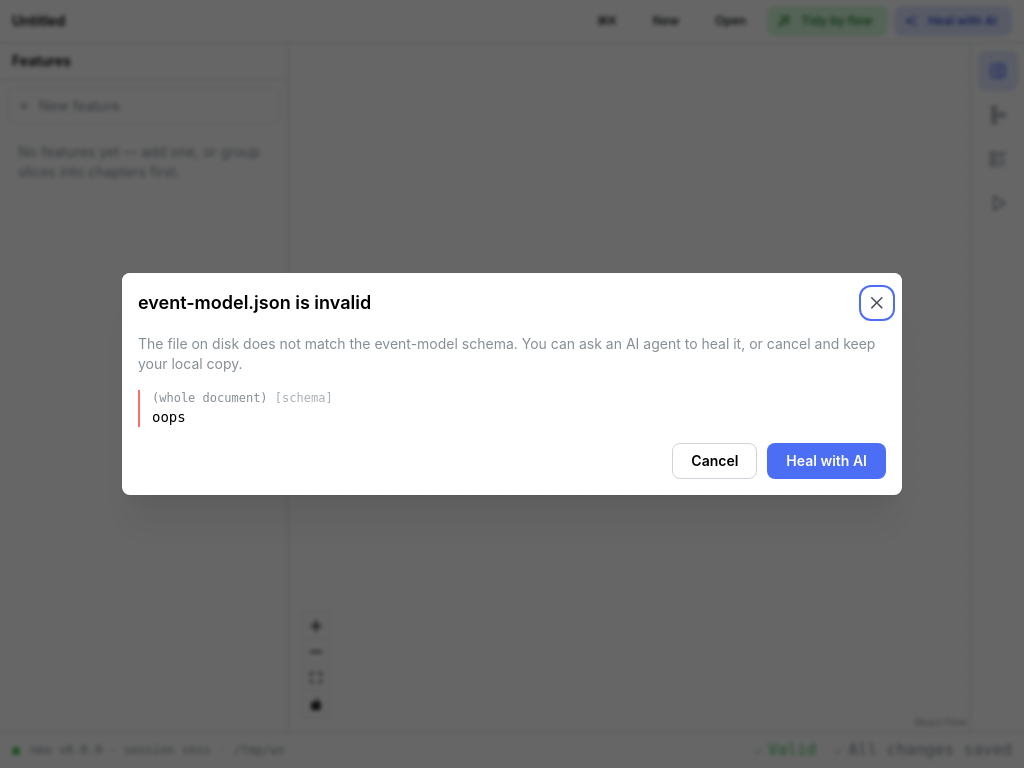
Test case: App — event-model load + heal flow › Heal happy path: heal → reload → modal closes
What coordinates should you click on to do the following:
click the button "Heal with AI"
I would click on:
 (827, 461)
Its box is [767,443,886,479].
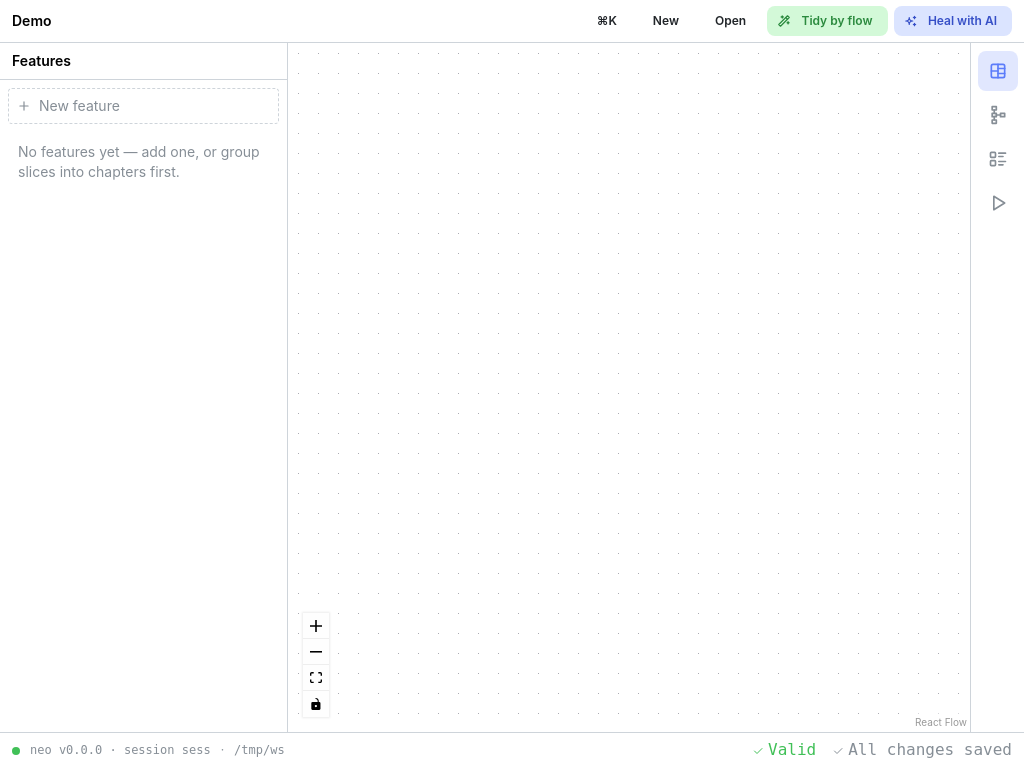
Expected: the dialog is gone
